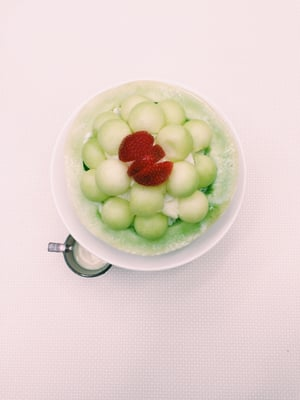sushi: (47, 80, 248, 274)
